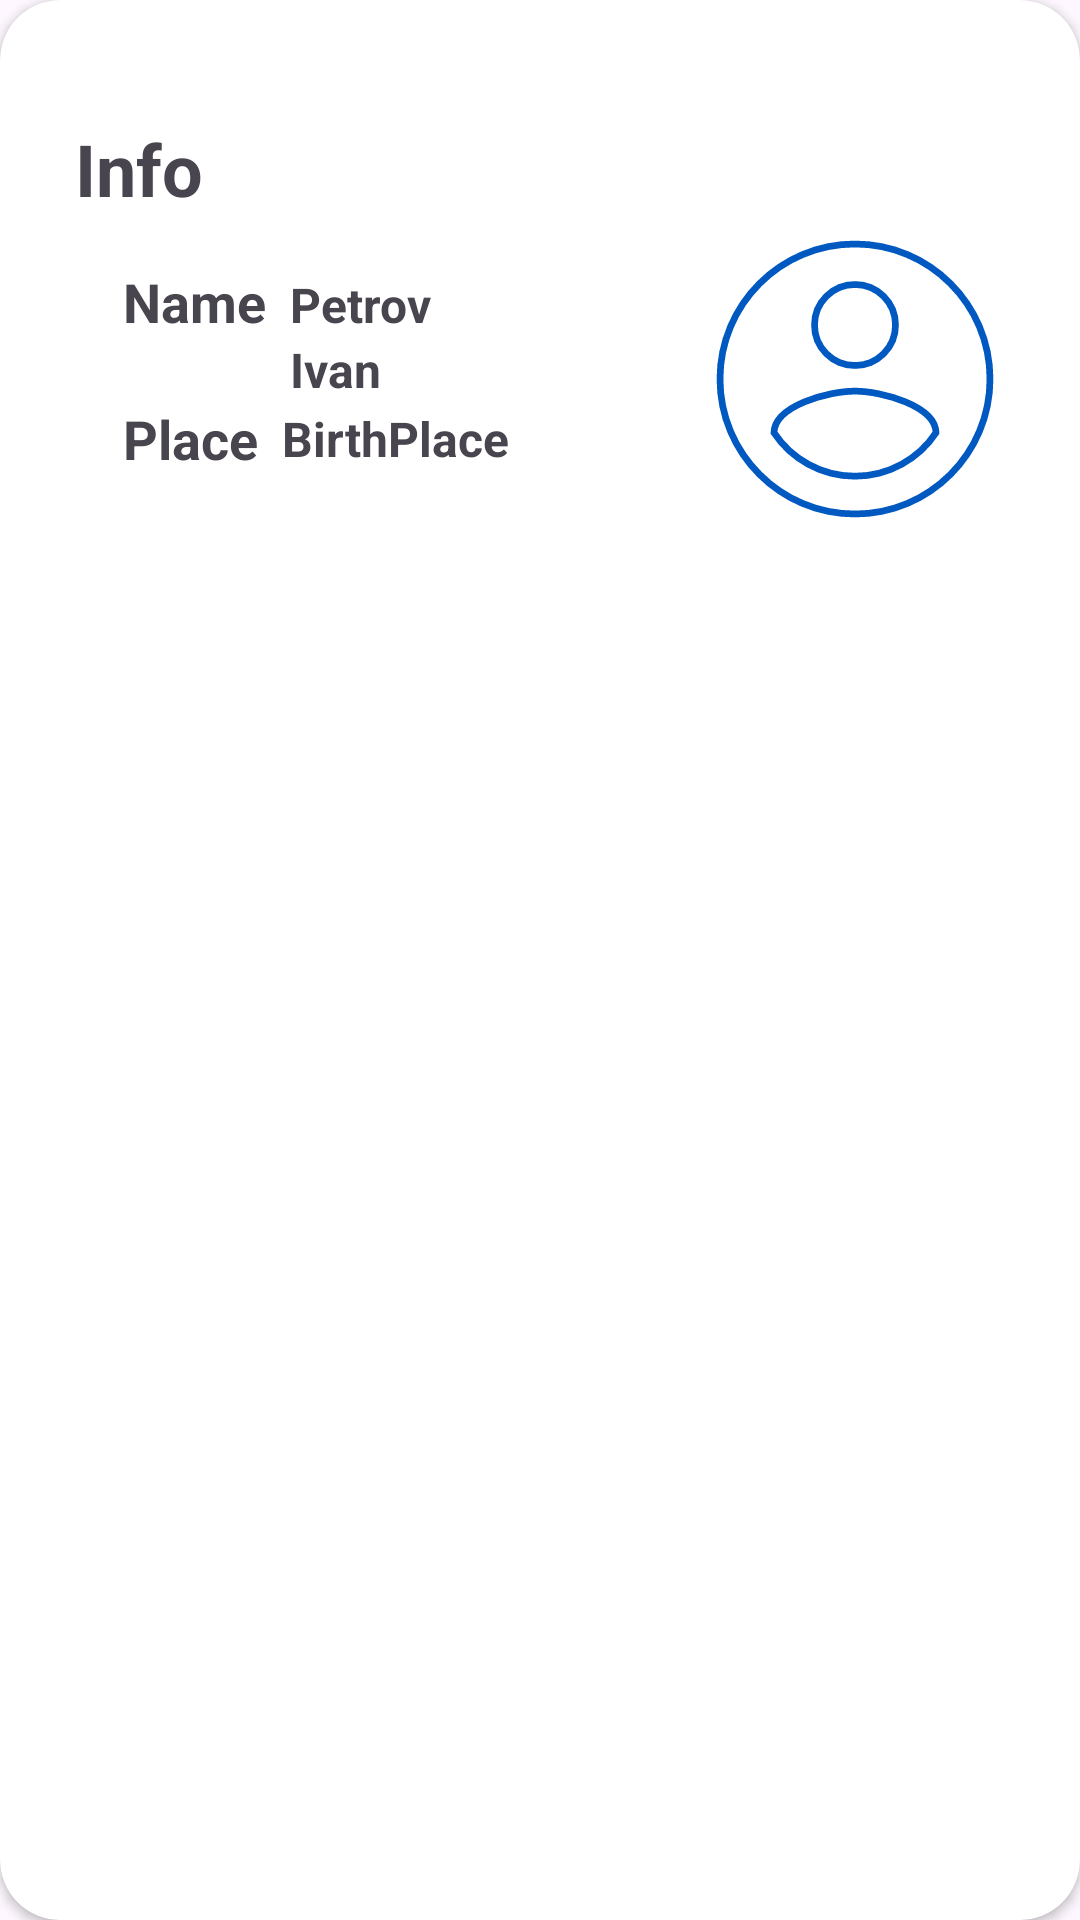

Point at icon controls on the screen. Image size 1080*1920, points as point (x, y).
profile: point (855, 379)
